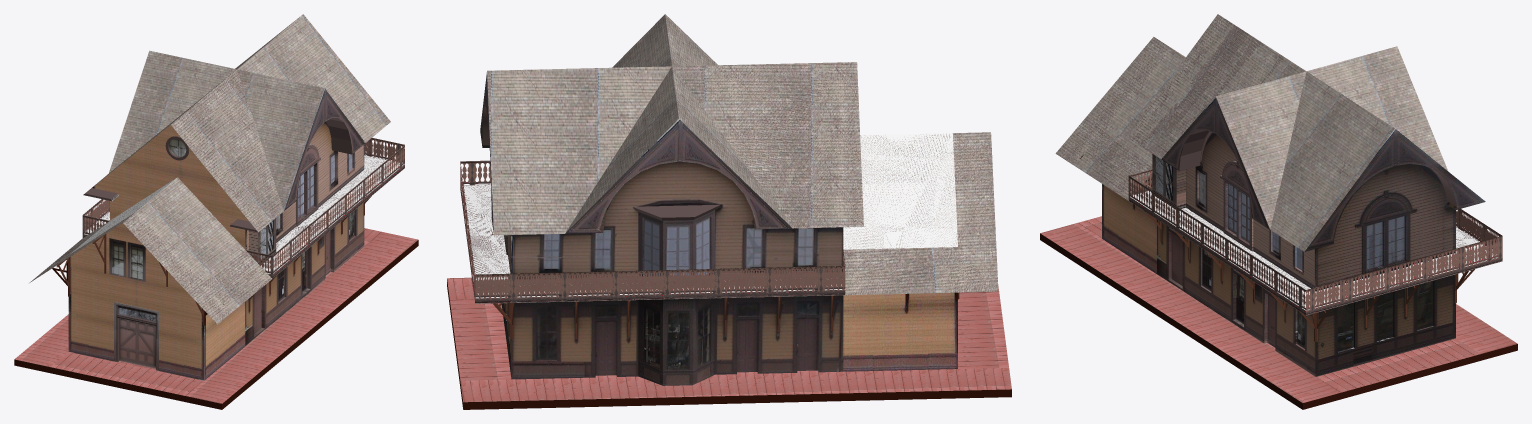
File: House05.dae
3 renders of one model, left to right at view 1: azimuth 30°, elevation 25°; view 2: azimuth 150°, elevation 25°; view 3: azimuth 270°, elevation 25°, orthographic. The views are drawn at different scales.
Visible parts, largest first — view 1: Dayton_Train_Depot (×23); view 2: Dayton_Train_Depot (×23); view 3: Dayton_Train_Depot (×23).
Boxes of the visible parts, x1,y1,x2,y2 form: Dayton_Train_Depot (×23): (14,14,418,409); Dayton_Train_Depot (×23): (447,14,1011,409); Dayton_Train_Depot (×23): (1040,14,1517,409).
Bounding box in the file's own units: 874 × 770 × 430.
20 materials, 16 textured.
